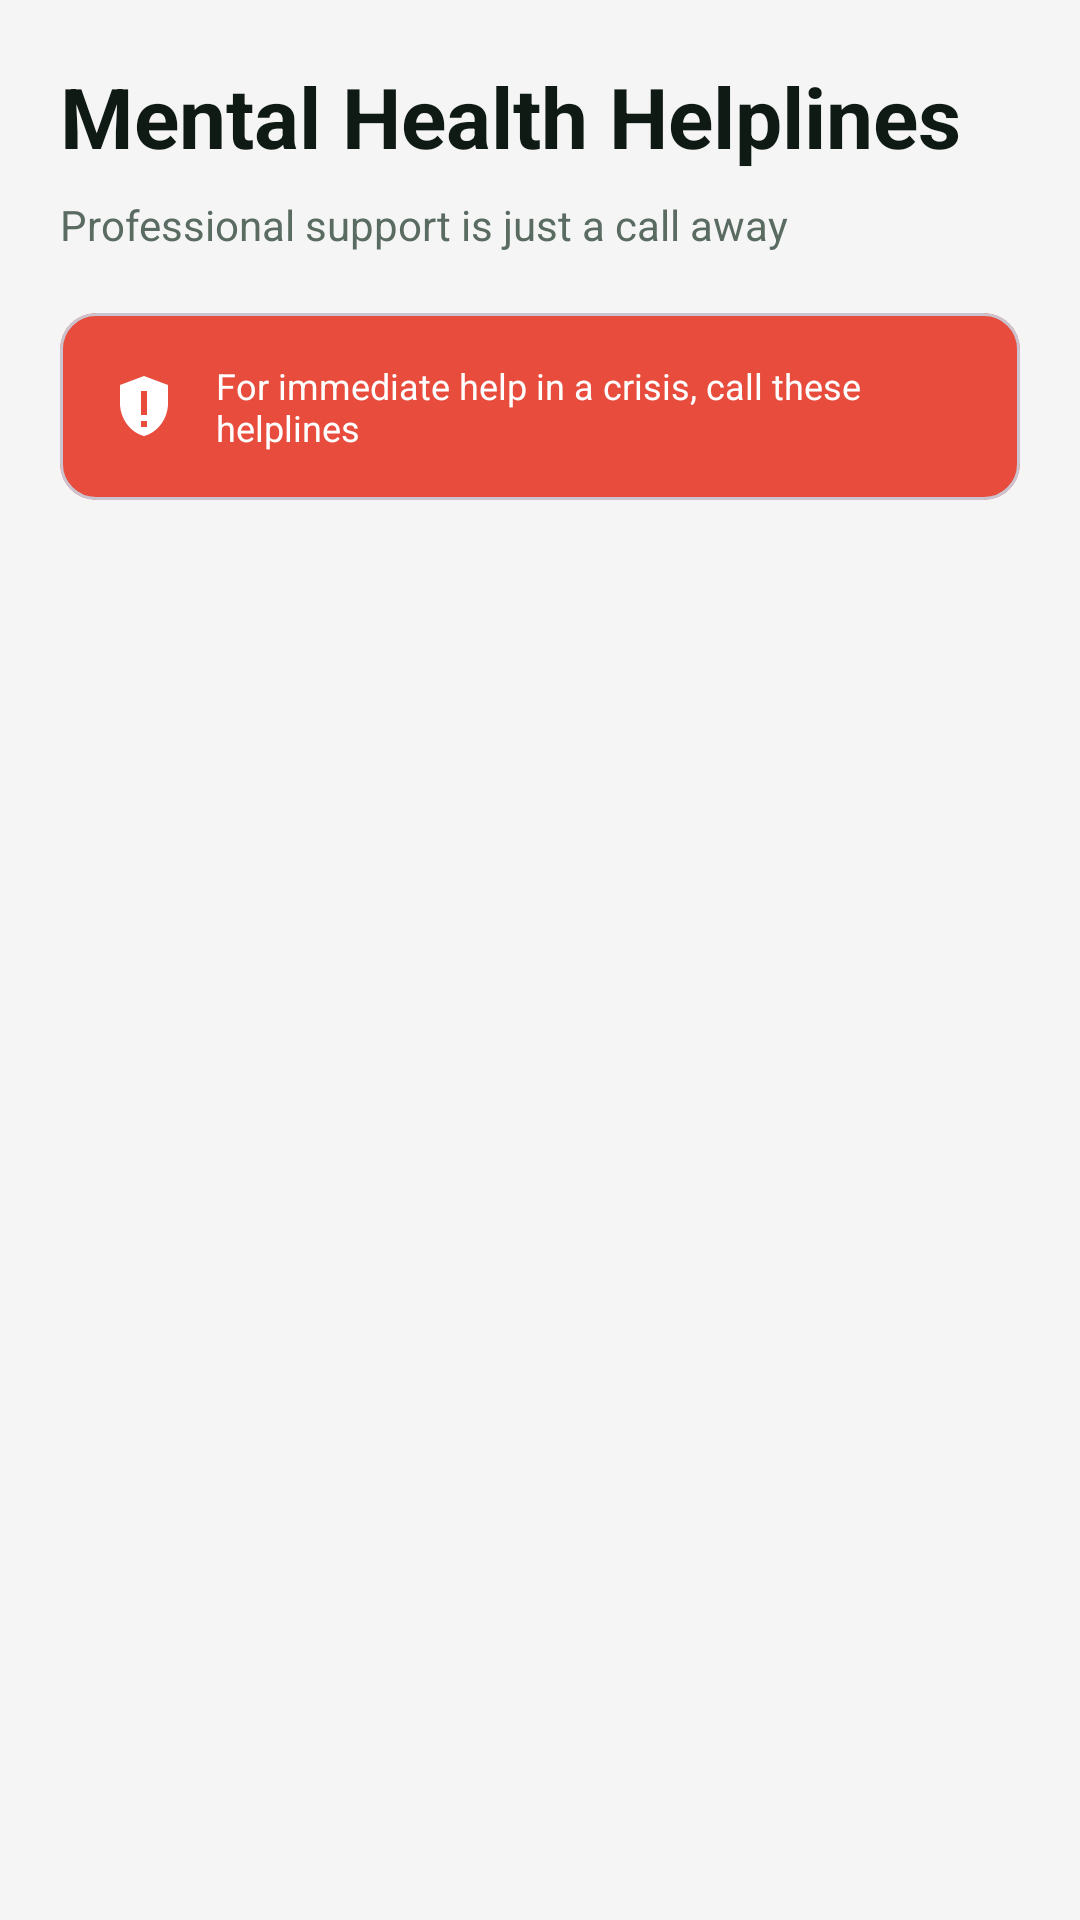

Point at icon controls on the screen. Image size 1080*1920, points as point (x, y).
Emergency: point (144, 406)
